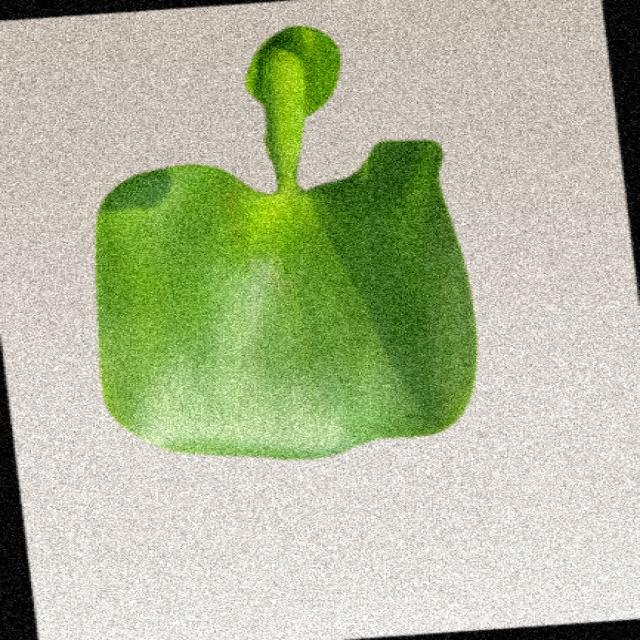daun sehat: (97, 26, 476, 458)
